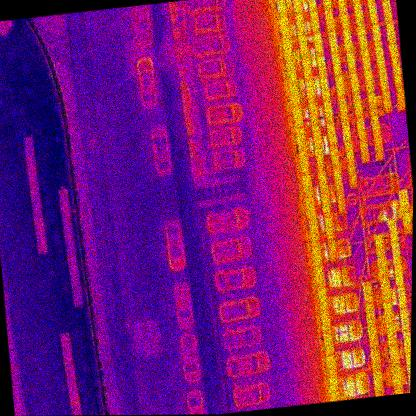Diode: (372, 370, 383, 394)
Hotspot: (322, 330, 334, 356), (361, 281, 373, 305), (369, 349, 381, 372)
Normal: (309, 9, 321, 35), (351, 94, 363, 119), (356, 24, 368, 49), (367, 92, 379, 116), (337, 97, 349, 121), (355, 117, 367, 141), (376, 256, 388, 280), (367, 326, 379, 350), (325, 354, 337, 378), (342, 27, 354, 51), (326, 123, 338, 146), (294, 13, 306, 36), (388, 346, 400, 369), (391, 367, 403, 390), (385, 22, 397, 45), (286, 59, 297, 84), (378, 68, 389, 93), (395, 87, 406, 112), (314, 148, 325, 173), (332, 167, 343, 192), (311, 241, 322, 266), (324, 8, 335, 33), (371, 24, 382, 49), (375, 45, 386, 70), (316, 55, 327, 79), (392, 65, 403, 89), (349, 72, 360, 96), (289, 82, 300, 106), (381, 89, 392, 113), (370, 115, 381, 139), (359, 140, 370, 164), (329, 144, 340, 168), (302, 174, 313, 198), (335, 190, 346, 214), (305, 196, 316, 220), (398, 188, 409, 212), (401, 210, 412, 234), (374, 234, 385, 258), (314, 264, 325, 288), (380, 278, 391, 302), (317, 287, 328, 311), (396, 286, 407, 310), (383, 300, 394, 324), (365, 304, 376, 328), (368, 1, 379, 25), (354, 3, 365, 27), (338, 6, 349, 30), (386, 323, 397, 347), (313, 33, 324, 57), (389, 43, 400, 67), (360, 47, 371, 71), (346, 50, 357, 74), (331, 53, 342, 76), (301, 58, 312, 81), (364, 70, 375, 93), (311, 126, 322, 149), (347, 165, 358, 188), (382, 0, 393, 23), (279, 16, 290, 39), (327, 31, 338, 54), (304, 79, 314, 104), (299, 150, 309, 175), (298, 34, 308, 59), (373, 138, 384, 160), (320, 194, 331, 216), (334, 74, 344, 98), (320, 78, 330, 102), (323, 100, 333, 124), (308, 103, 318, 127), (292, 105, 302, 129), (341, 120, 351, 144), (296, 128, 306, 152), (345, 142, 355, 166), (308, 219, 318, 243), (394, 264, 404, 288), (320, 309, 330, 333), (399, 308, 409, 332), (329, 375, 339, 399), (282, 38, 292, 62), (327, 239, 337, 262), (318, 170, 327, 195), (324, 216, 333, 240), (391, 241, 400, 265), (389, 220, 398, 243), (402, 331, 411, 354), (276, 0, 286, 17), (404, 353, 411, 376), (291, 0, 301, 14), (306, 0, 317, 11), (320, 0, 331, 10), (335, 0, 346, 9), (363, 0, 375, 4), (349, 0, 360, 4)
